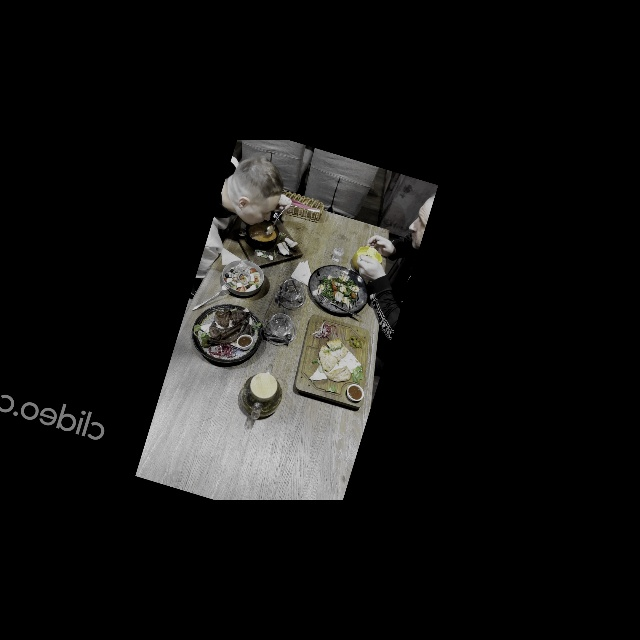графин с чаем: (234, 359, 290, 425)
закуска: (288, 312, 385, 411)
мясное блюдо: (185, 295, 269, 372)
салат: (302, 258, 376, 322)
салат цезарь: (217, 255, 268, 301)
